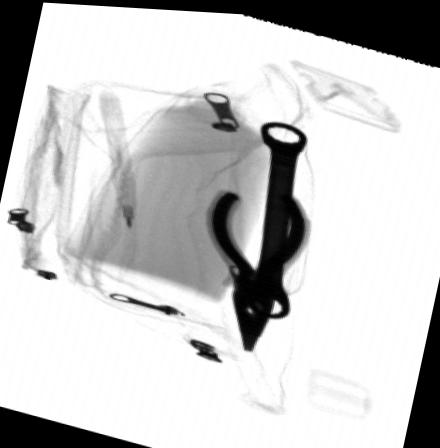Pliers: (204, 186, 307, 352)
Wrench: (244, 116, 309, 317)
